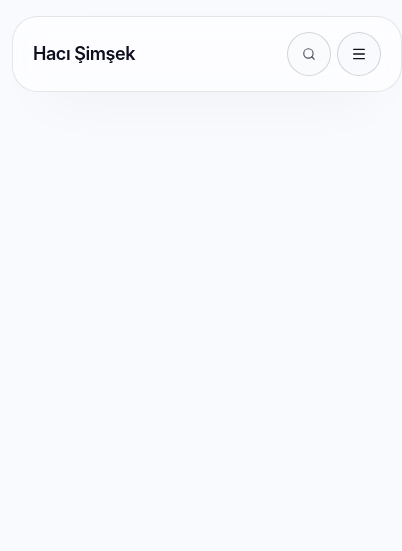
Test case: Header › does not pull focus out of the page when Escape closes the menu
Click the 2nd button named "Toggle navigation". click: (359, 54)
box: x1=337 y1=32 x2=381 y2=76
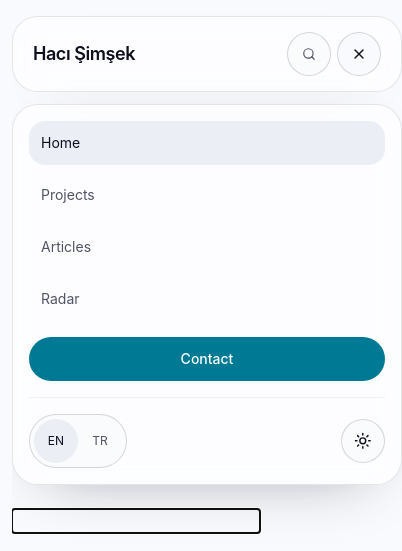
Press Escape
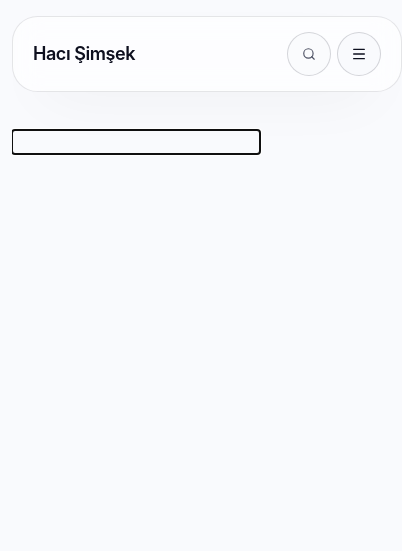
Check: the 2nd button named "Toggle navigation" is collapsed, box x1=337 y1=32 x2=381 y2=76
